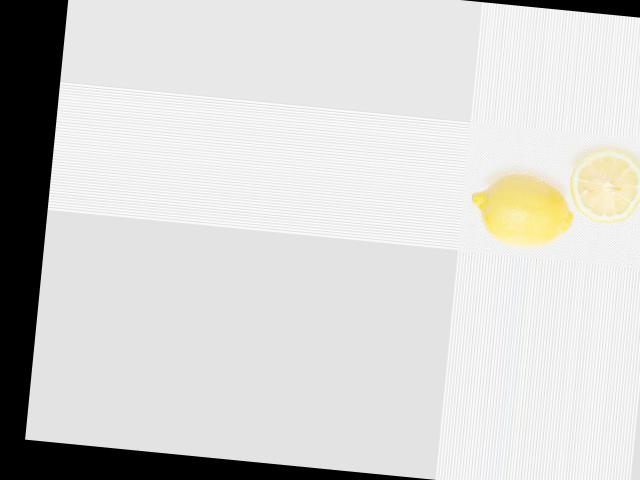lemon: (459, 164, 577, 254)
